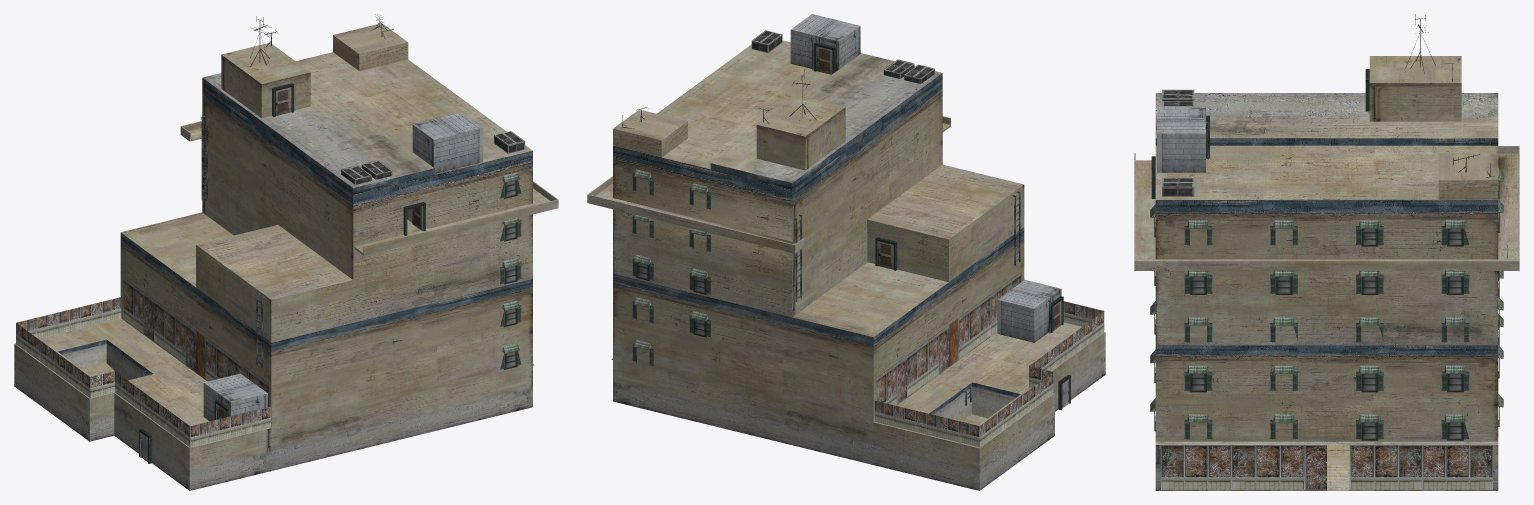
The model's file is mcolymps.glb.
3 views of the same model, side by side, from view 1: azimuth 30°, elevation 25°; view 2: azimuth 150°, elevation 25°; view 3: azimuth 270°, elevation 25° (orthographic). The views are drawn at different scales.
Parts seen in each view (by area): view 1: _mcolymps; view 2: _mcolymps; view 3: _mcolymps.
Part boxes in pixels (x1=…): _mcolymps: x1=14, y1=14, x2=558, y2=490; _mcolymps: x1=587, y1=14, x2=1105, y2=490; _mcolymps: x1=1134, y1=14, x2=1519, y2=490.
Bounding box in the file's own units: 47 × 40.61 × 36.
5 materials, 5 textured.
